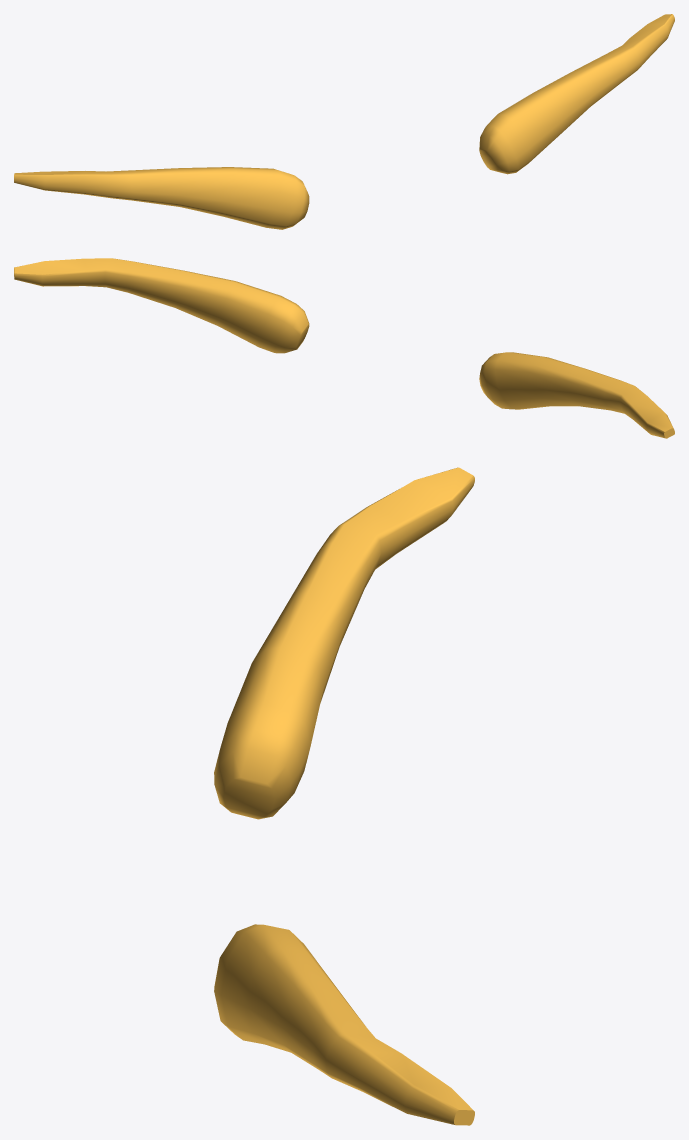
File: Eyebrows_26_05.fbx
3 renders of one model, top to bottom at view 1: azimuth 30°, elevation 25°; view 2: azimuth 150°, elevation 25°; view 3: azimuth 270°, elevation 25°, orthographic. The views are drawn at different scales.
Parts seen in each view (by area): view 1: Eyebrows_26_05; view 2: Eyebrows_26_05; view 3: Eyebrows_26_05.
Part boxes in pixels (x1,y1,x2,y2): Eyebrows_26_05: (14, 14, 674, 229); Eyebrows_26_05: (14, 258, 674, 438); Eyebrows_26_05: (214, 467, 474, 1125).
Size of the model in its own units: 17.7 by 1.89 by 3.02.
